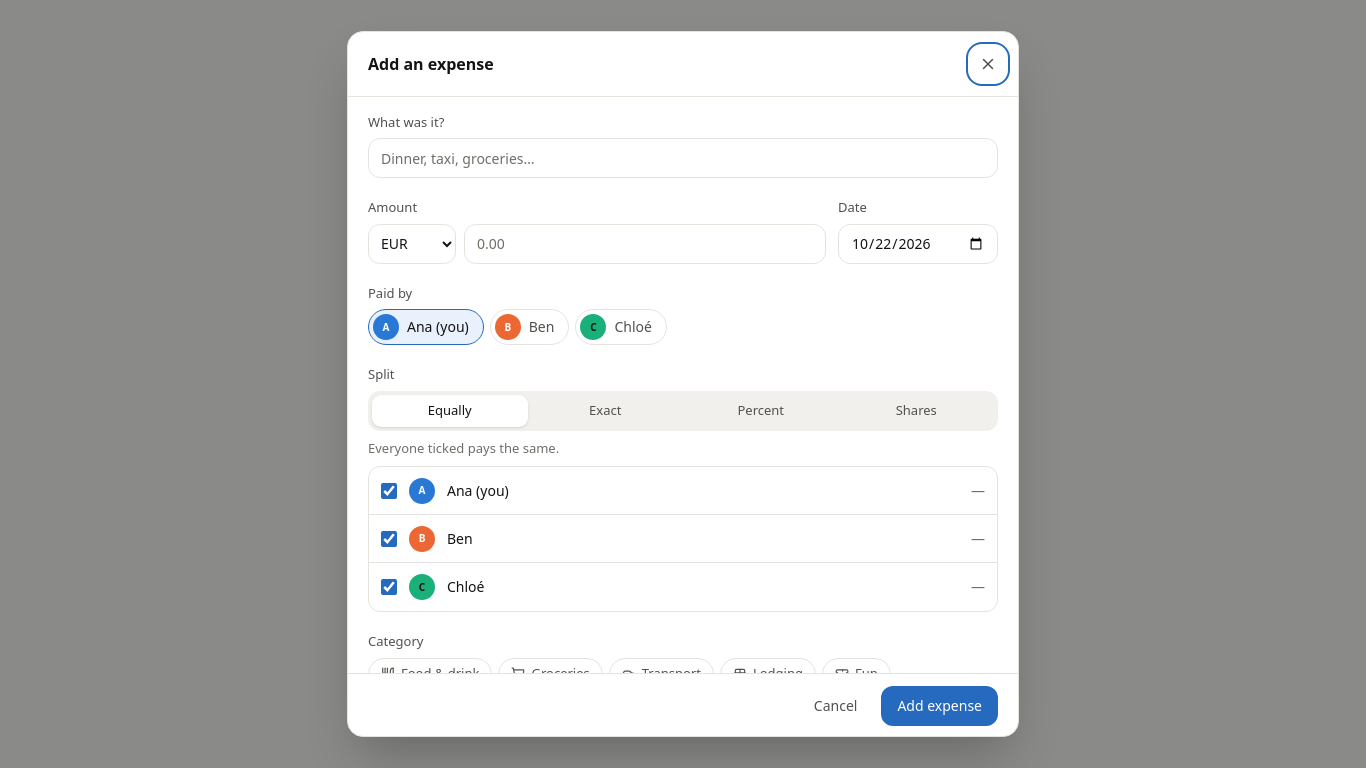
Test: ExpenseDialog › explains what is missing instead of saving
Step 1. Click the button "Add expense" → click(940, 706), box [881,686,998,726]
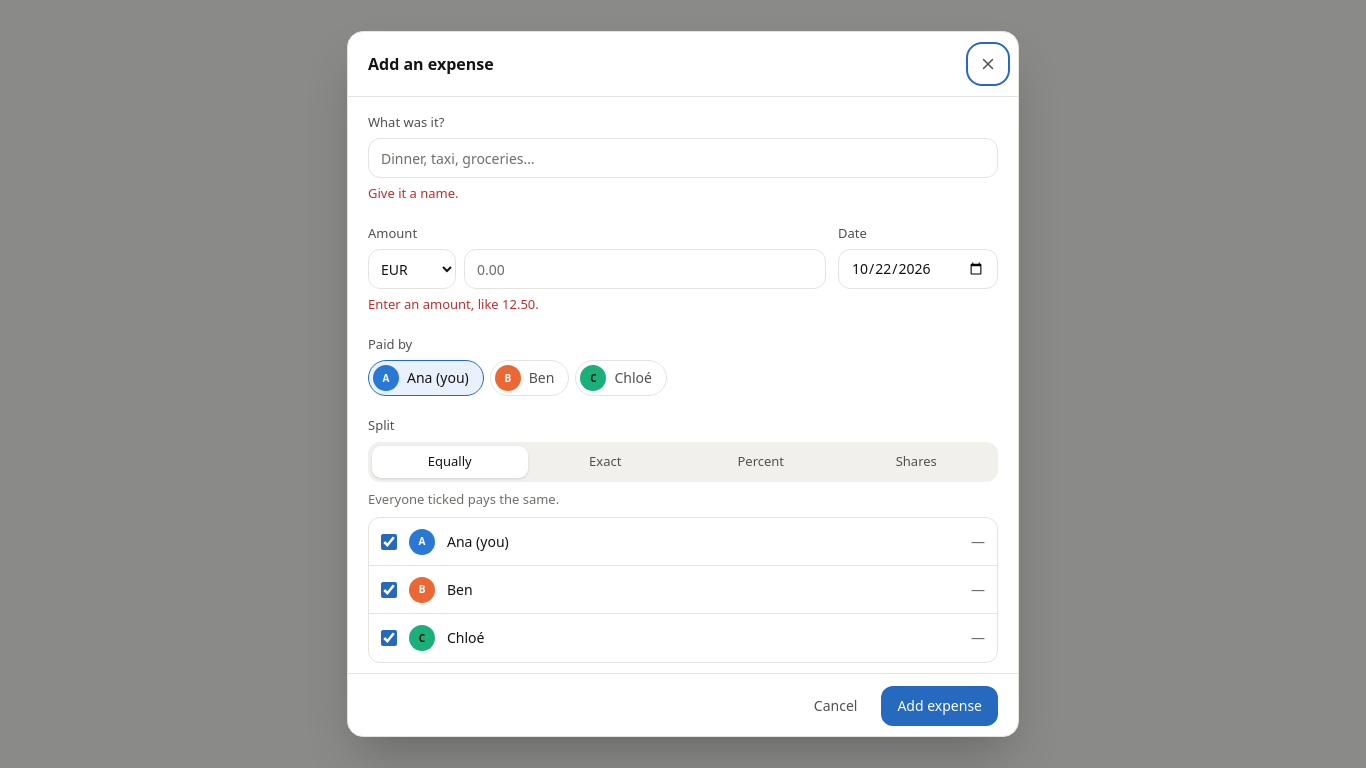
Check: the text "Give it a name." is shown, box [368,184,458,202]
Check: the text "Enter an amount, like 12.50." is shown, box [368,295,539,313]
